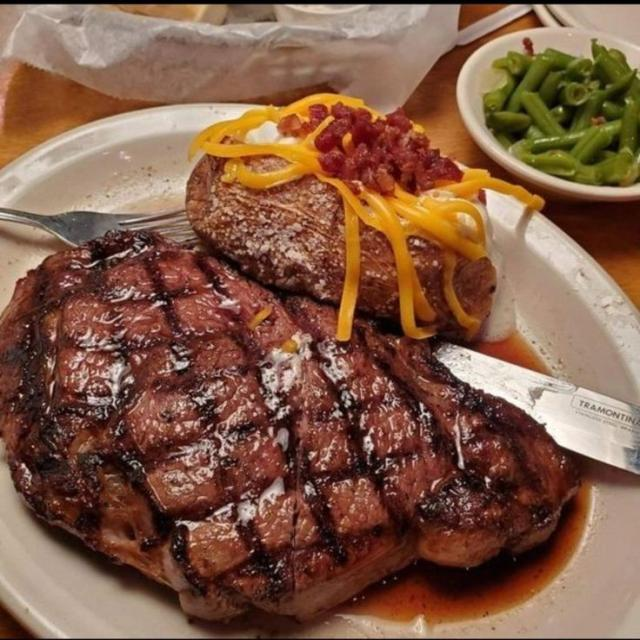beef steak: (0, 233, 578, 619)
boiled potato: (186, 155, 343, 304), (410, 231, 461, 336), (358, 223, 397, 323), (454, 256, 496, 320)
